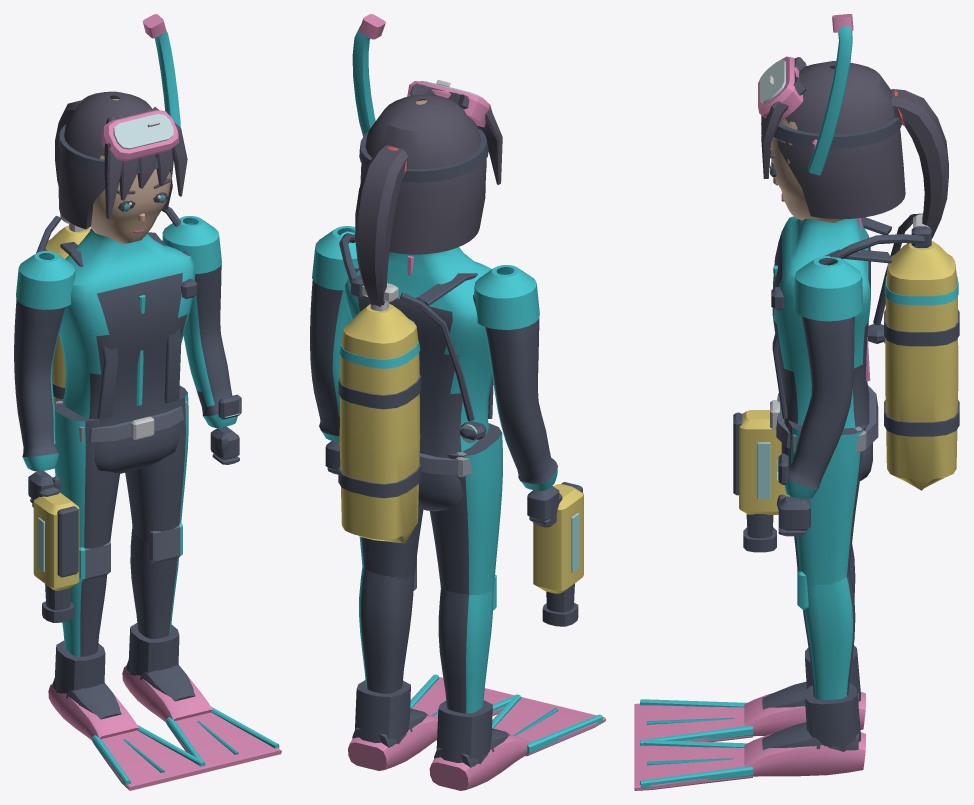
Rendered from jo_plongeuse.glb.
The picture shows the model from 3 angles, left to right: view 1: azimuth 30°, elevation 25°; view 2: azimuth 150°, elevation 25°; view 3: azimuth 270°, elevation 25°; orthographic projection. The views are drawn at different scales.
Parts seen in each view (by area): view 1: torso, jambe_r, jambe_l, hair, arm_r, arm_l, leg_r, coiffe, gun, dos, shin_l, leg_l (+4 smaller); view 2: dos, hair, torso, jambe_r, arm_r, leg_r, jambe_l, shin_r, shin_l, gun, arm_l, coiffe (+3 smaller); view 3: dos, hair, jambe_l, torso, arm_l, jambe_r, leg_l, coiffe, shin_l, gun, epaule_l, head (+1 smaller).
Boxes of the visible parts, x1=… form: torso: x1=56, y1=228, x2=195, y2=473; jambe_r: x1=48, y1=640, x2=207, y2=790; jambe_l: x1=122, y1=623, x2=281, y2=772; hair: x1=55, y1=91, x2=187, y2=229; arm_r: x1=14, y1=299, x2=65, y2=502; arm_l: x1=162, y1=223, x2=241, y2=464; leg_r: x1=54, y1=399, x2=119, y2=548; coiffe: x1=58, y1=14, x2=180, y2=173; gun: x1=32, y1=487, x2=79, y2=622; dos: x1=36, y1=206, x2=197, y2=418; shin_l: x1=130, y1=523, x2=182, y2=638; leg_l: x1=125, y1=385, x2=188, y2=542; dos: x1=338, y1=233, x2=493, y2=543; hair: x1=355, y1=83, x2=502, y2=306; torso: x1=344, y1=247, x2=492, y2=511; jambe_r: x1=429, y1=694, x2=605, y2=790; arm_r: x1=473, y1=295, x2=559, y2=524; leg_r: x1=429, y1=423, x2=502, y2=595; jambe_l: x1=348, y1=674, x2=522, y2=770; shin_r: x1=438, y1=574, x2=496, y2=713; shin_l: x1=359, y1=557, x2=416, y2=693; gun: x1=533, y1=482, x2=583, y2=626; arm_l: x1=310, y1=231, x2=359, y2=474; coiffe: x1=352, y1=14, x2=492, y2=182; dos: x1=771, y1=213, x2=959, y2=490; hair: x1=761, y1=57, x2=948, y2=238; jambe_l: x1=634, y1=683, x2=865, y2=790; torso: x1=770, y1=216, x2=878, y2=480; arm_l: x1=777, y1=316, x2=854, y2=536; jambe_r: x1=634, y1=645, x2=865, y2=745; leg_l: x1=787, y1=420, x2=865, y2=587; coiffe: x1=758, y1=14, x2=901, y2=175; shin_l: x1=797, y1=570, x2=855, y2=700; gun: x1=733, y1=410, x2=788, y2=552; epaule_l: x1=793, y1=255, x2=863, y2=321; head: x1=769, y1=118, x2=844, y2=222.
Bounding box in the file's own units: 0.4407 × 1.35 × 0.5233.
